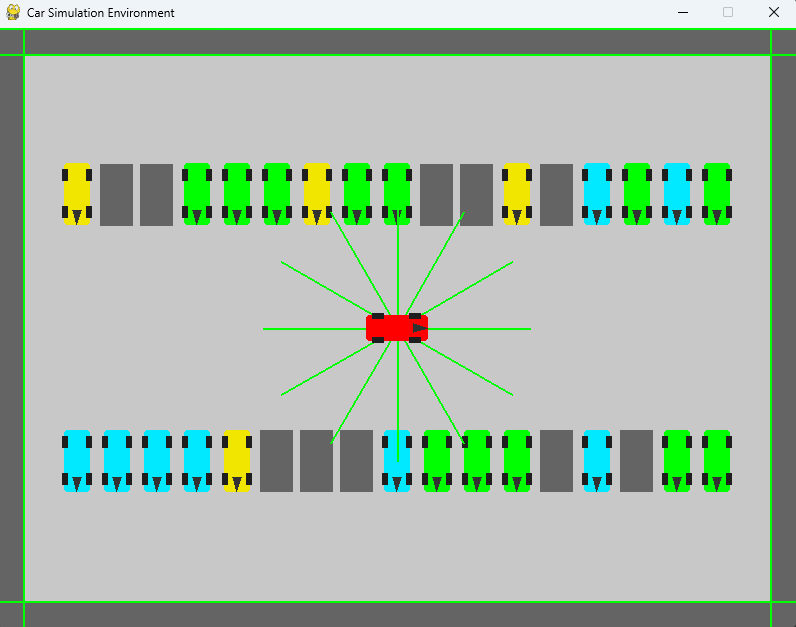ControlledCar: (354, 302, 439, 354)
ParkedCar: (55, 157, 98, 228), (494, 156, 535, 230), (95, 423, 136, 492), (416, 423, 455, 493), (377, 155, 414, 228), (577, 159, 615, 230), (259, 156, 296, 228), (219, 421, 254, 497), (218, 159, 254, 229), (178, 159, 213, 230), (378, 424, 413, 495), (699, 159, 735, 228), (698, 428, 737, 491), (300, 157, 335, 226), (659, 158, 693, 228), (59, 425, 94, 493), (617, 161, 654, 225), (657, 428, 693, 493), (180, 423, 212, 495), (458, 428, 491, 497), (497, 428, 532, 493), (580, 429, 613, 497), (338, 160, 372, 225), (142, 425, 173, 493)
ParkingSpot: (609, 422, 657, 498), (136, 153, 178, 235), (415, 156, 457, 233), (534, 426, 578, 499), (457, 155, 497, 234), (337, 421, 376, 500), (297, 421, 337, 498), (257, 422, 296, 499), (536, 159, 577, 232), (98, 156, 133, 231)
